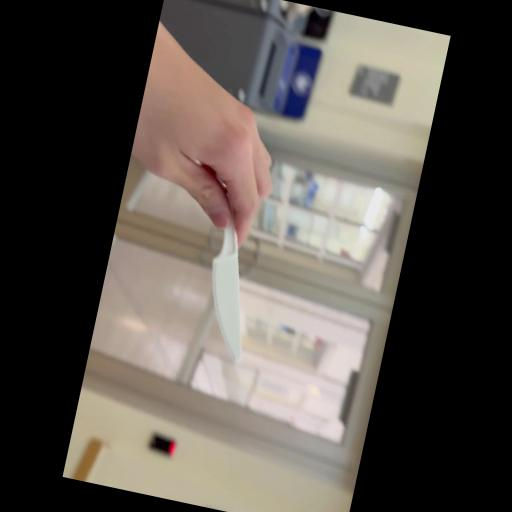utensil: (179, 190, 281, 372)
